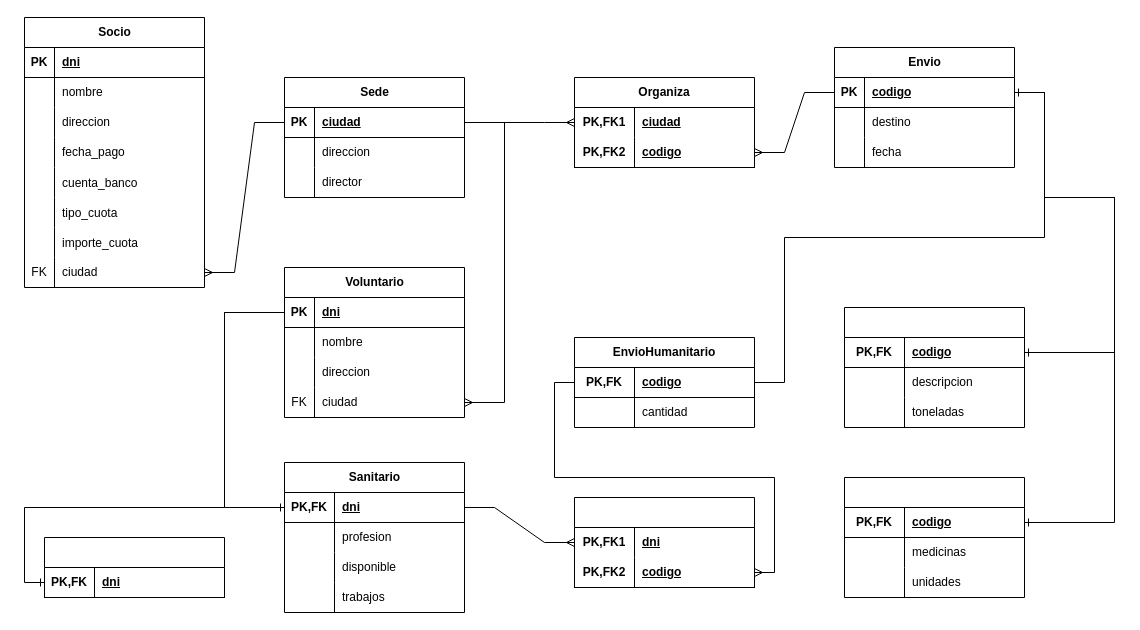
This 1140x630 diagram has some shape labels left out. The shapes that lost their labels are listed below. From the top down, each one's box as (x1, y1, x2, y2) in pixels, then its label:
(844, 306, 1024, 428): EnvioAlimentos
(574, 496, 754, 588): Realiza
(844, 476, 1024, 598): EnvioMedicamentos
(44, 536, 224, 598): Asociacion
